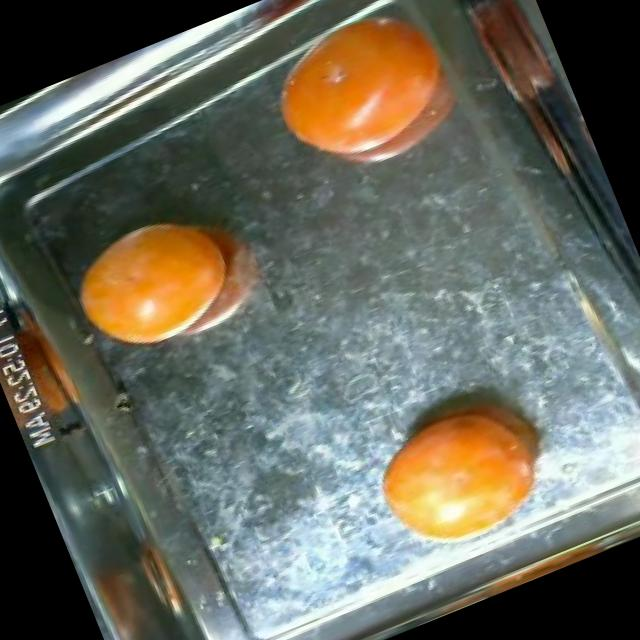Fruit: (338, 353, 592, 580), (233, 0, 498, 212), (41, 173, 286, 380), (116, 523, 205, 632)
